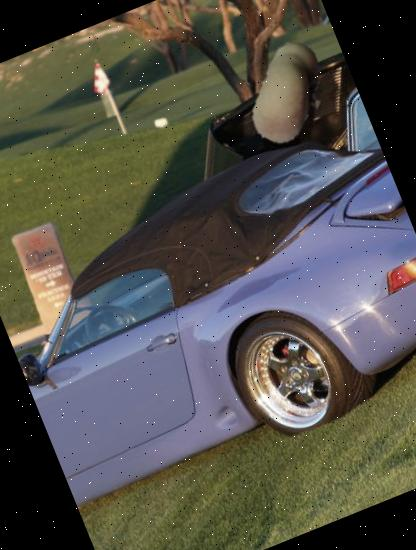Peach: (222, 26, 358, 160)
